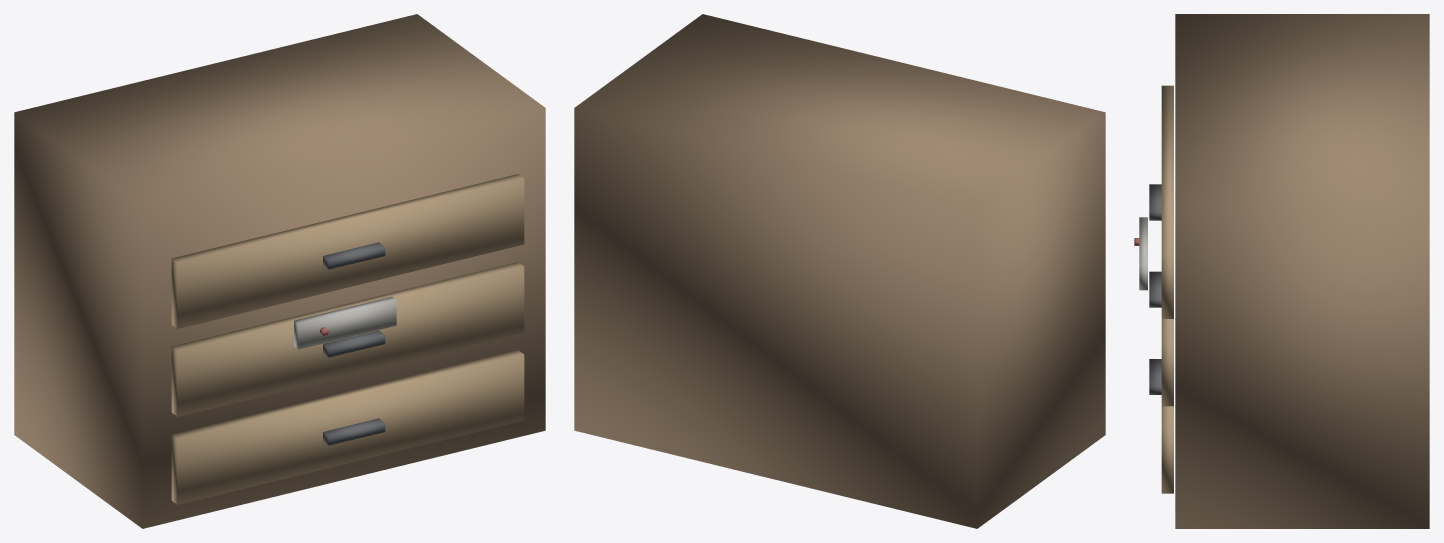
The model's file is motel_dresser__deep.glb.
3 renders of one model, left to right at view 1: azimuth 30°, elevation 25°; view 2: azimuth 150°, elevation 25°; view 3: azimuth 270°, elevation 25°, orthographic.
Visible parts, largest first — view 1: world; view 2: world; view 3: world.
Part boxes in pixels (x1=…): world: x1=14, y1=14, x2=545, y2=528; world: x1=574, y1=14, x2=1105, y2=528; world: x1=1134, y1=14, x2=1429, y2=528.
Bounding box in the file's own units: 1.15 × 0.88 × 0.7363.
